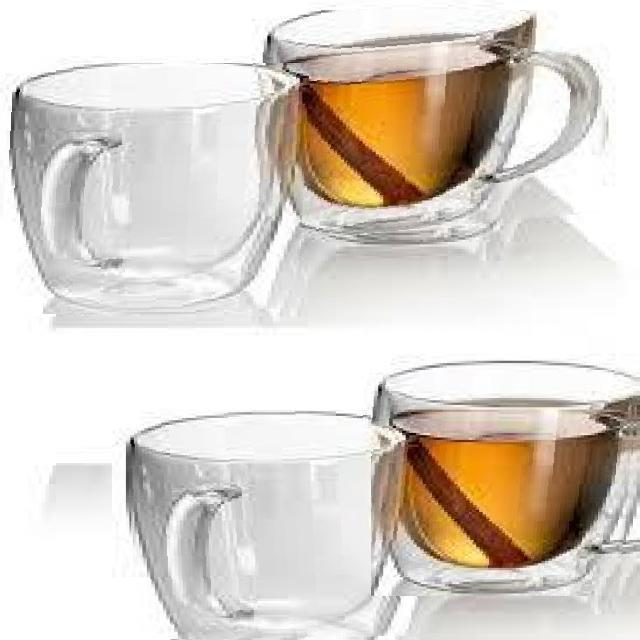Glass: (259, 10, 615, 244), (5, 64, 310, 316), (126, 410, 418, 640), (371, 356, 640, 596)
